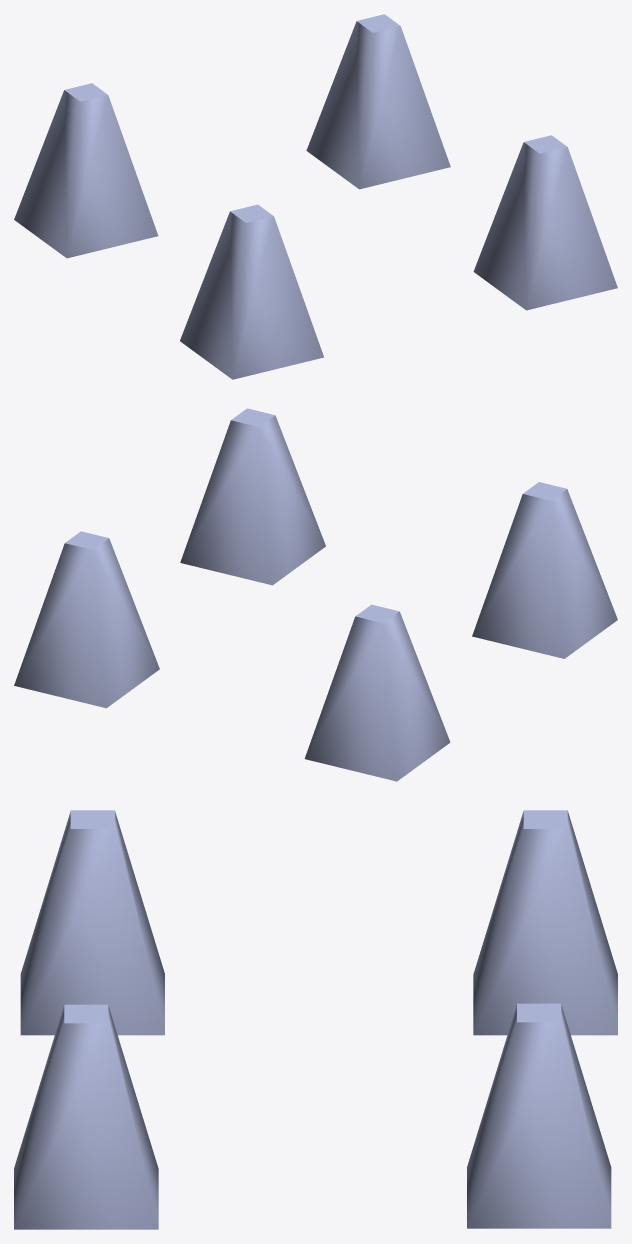
Rendered from n5_n5_n5_spikes_lev5.glb.
3 views of the same model, one above another, from view 1: azimuth 30°, elevation 25°; view 2: azimuth 150°, elevation 25°; view 3: azimuth 270°, elevation 25° (orthographic). The views are drawn at different scales.
Visible parts, largest first — view 1: n5_n5_n5_spikes_lev5; view 2: n5_n5_n5_spikes_lev5; view 3: n5_n5_n5_spikes_lev5.
Boxes of the visible parts, box(x1,y1,x2,y2) form: n5_n5_n5_spikes_lev5: box(14, 14, 617, 379); n5_n5_n5_spikes_lev5: box(14, 408, 617, 781); n5_n5_n5_spikes_lev5: box(14, 810, 617, 1229).
Size of the model in its own units: 2.29 by 0.7741 by 2.29.
1 material, 1 textured.
